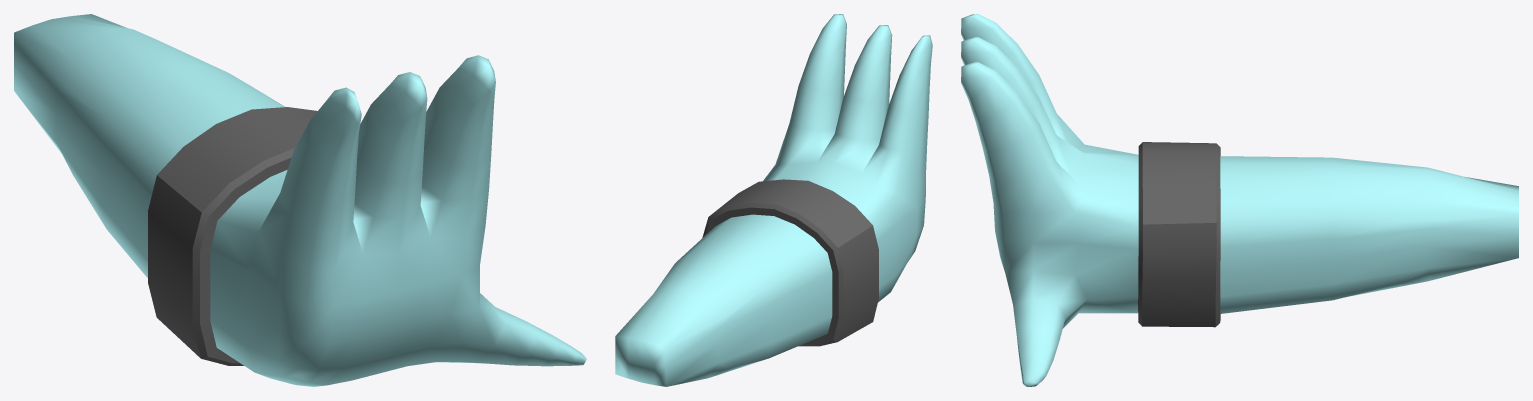
The model's file is GrappleArm.fbx.
3 views of the same model, side by side, from view 1: azimuth 30°, elevation 25°; view 2: azimuth 150°, elevation 25°; view 3: azimuth 270°, elevation 25° (orthographic). The views are drawn at different scales.
Parts seen in each view (by area): view 1: pCube1; view 2: pCube1; view 3: pCube1.
Part boxes in pixels (x1,y1,x2,y2): pCube1: (14,14,586,386); pCube1: (615,14,932,386); pCube1: (961,14,1518,386).
Bounding box in the file's own units: 0.4079 × 0.4559 × 0.83.
